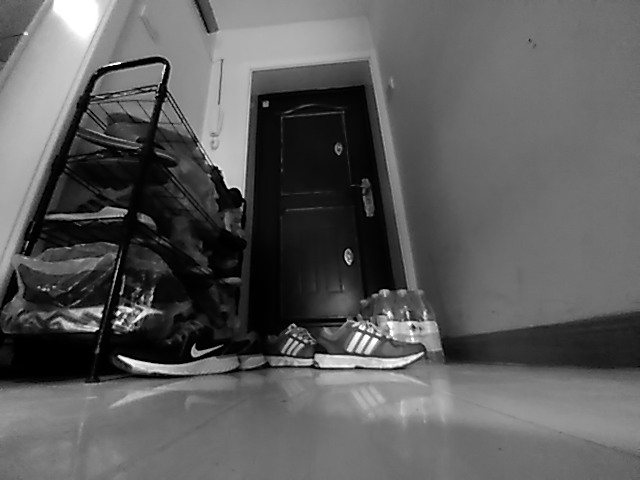shoe: (110, 325, 243, 381), (311, 316, 427, 369), (265, 324, 315, 367), (233, 332, 267, 371)
